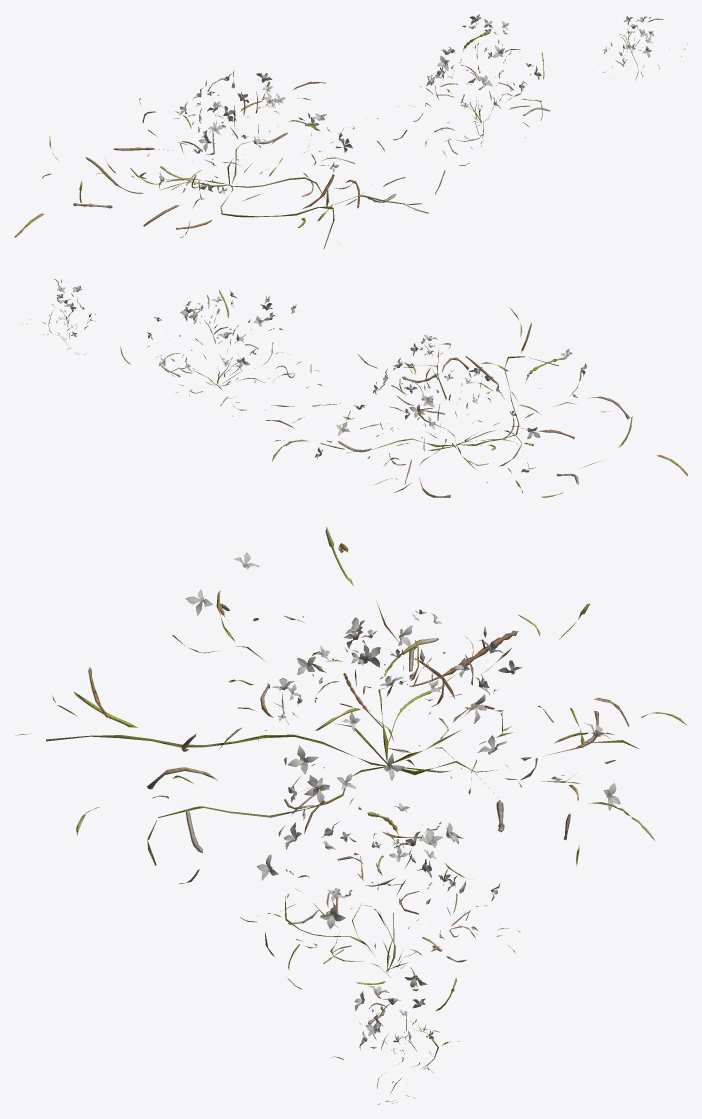
The picture shows the model from 3 angles, top to bottom: view 1: azimuth 30°, elevation 25°; view 2: azimuth 150°, elevation 25°; view 3: azimuth 270°, elevation 25°; orthographic projection. The views are drawn at different scales.
Parts seen in each view (by area): view 1: flower_heliophila_large, flower_heliophila_medium, flower_heliophila_small; view 2: flower_heliophila_large, flower_heliophila_medium, flower_heliophila_small; view 3: flower_heliophila_large, flower_heliophila_medium, flower_heliophila_small.
Boxes of the visible parts, x1,y1,x2,y2 form: flower_heliophila_large: (14, 70, 445, 248); flower_heliophila_medium: (398, 14, 550, 165); flower_heliophila_small: (593, 16, 687, 79); flower_heliophila_large: (266, 307, 687, 497); flower_heliophila_medium: (120, 290, 319, 416); flower_heliophila_small: (22, 279, 95, 354); flower_heliophila_large: (15, 526, 686, 914); flower_heliophila_medium: (240, 773, 520, 1024); flower_heliophila_small: (331, 986, 459, 1104).
Size of the model in its own units: 2.75 by 0.3861 by 1.36.
Materials: 1 (1 with a texture image).
